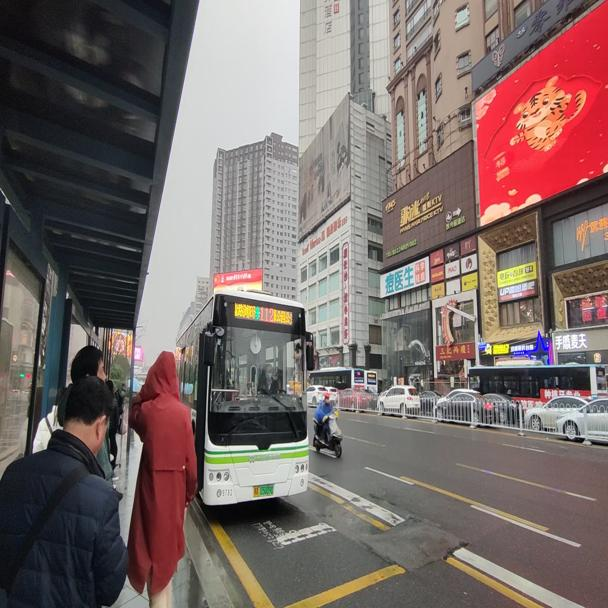bus: (170, 287, 314, 510)
screen: (259, 304, 273, 324)
